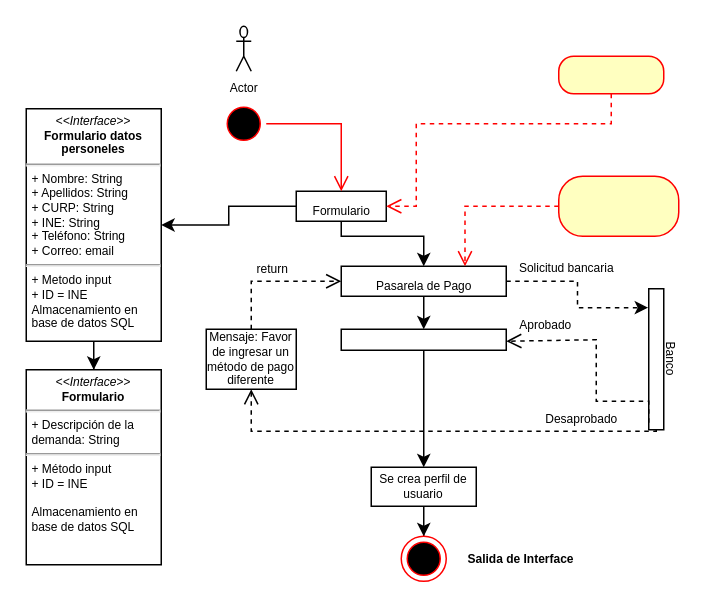
Some shapes in this 720 by 608 pixel diagram are drawn without their labels. Here are the shapes that lost their labels. From the top down, the centre of each, then its label:
At [610,74]: "Usuario llena formulario".
At [618,205]: "El usuario ingresa su método de pago".
At [423,339]: "Pago aprobado".
